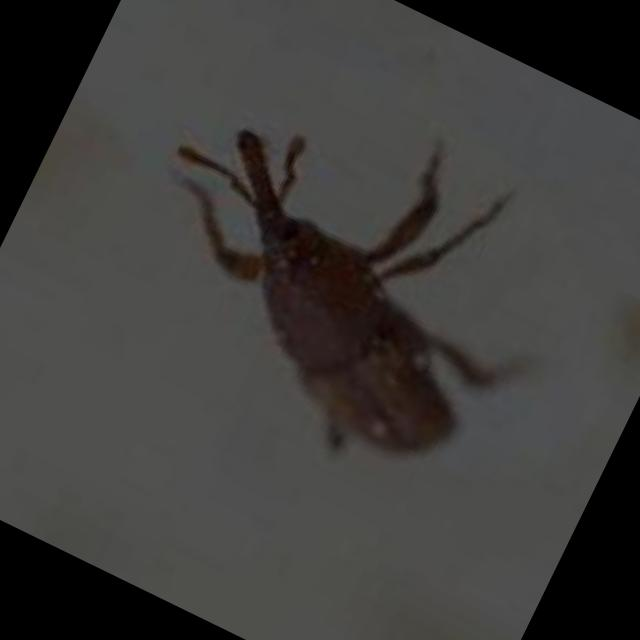rice-bug: (143, 110, 546, 480)
